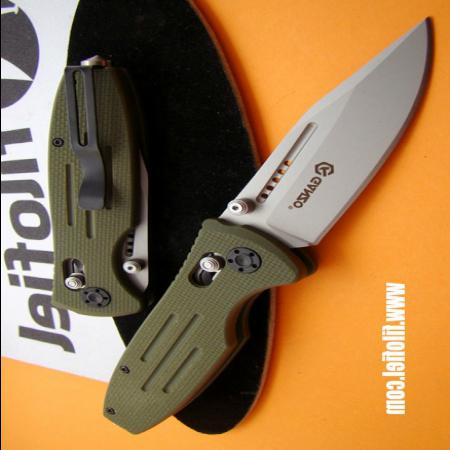long weapon: (214, 10, 440, 254)
